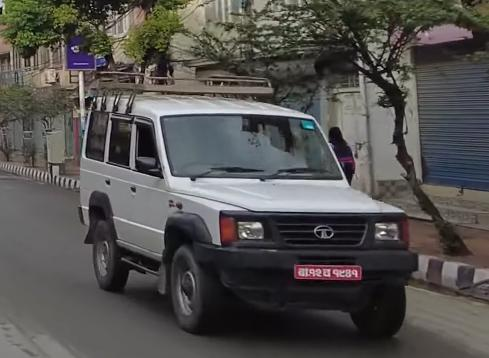SUV: (79, 67, 418, 344)
